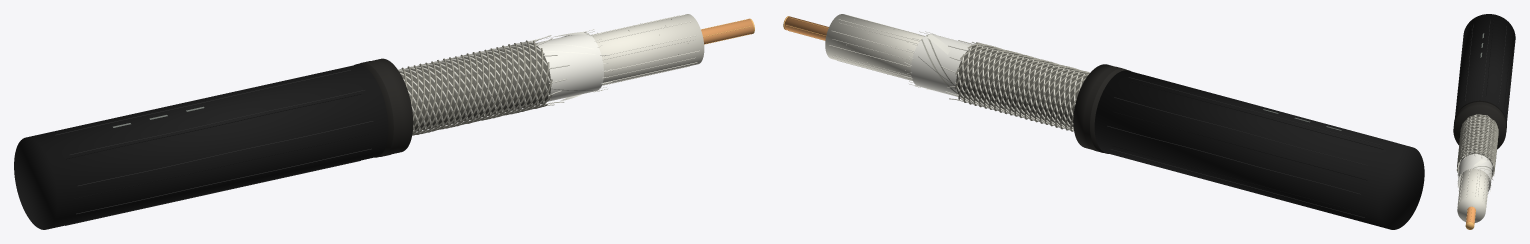
File: rf-lmr100-macro.glb
The picture shows the model from 3 angles, left to right: view 1: azimuth 30°, elevation 25°; view 2: azimuth 150°, elevation 25°; view 3: azimuth 270°, elevation 25°; orthographic projection. The views are drawn at different scales.
Parts seen in each view (by area): view 1: macro jacket body, macro dielectric exposed core, shadow seen through braid windows, continuous foil sleeve under braid, thick jacket cut wall, rounded jacket cut lip, polished solid center conductor, jacket axial surface line 05, jacket axial surface line 04, jacket axial surface line 06; view 2: macro jacket body, macro dielectric exposed core, shadow seen through braid windows, continuous foil sleeve under braid, thick jacket cut wall, rounded jacket cut lip, polished solid center conductor; view 3: macro jacket body, macro dielectric exposed core, thick jacket cut wall, continuous foil sleeve under braid, shadow seen through braid windows, rounded jacket cut lip, macro braid shadow carrier 11 strand 2, macro braid shadow carrier 05 strand 2, macro braid shadow carrier 08 strand 2, macro braid shadow carrier 04 strand 2, macro braid shadow carrier 06 strand 2, macro braid shadow carrier 09 strand 2 (+33 smaller).
Part boxes in pixels (x1=…): macro jacket body: x1=14, y1=64, x2=388, y2=229; macro dielectric exposed core: x1=591, y1=14, x2=704, y2=85; shadow seen through braid windows: x1=399, y1=43, x2=550, y2=131; continuous foil sleeve under braid: x1=536, y1=32, x2=603, y2=101; thick jacket cut wall: x1=354, y1=58, x2=413, y2=157; rounded jacket cut lip: x1=360, y1=61, x2=401, y2=156; polished solid center conductor: x1=701, y1=19, x2=753, y2=43; jacket axial surface line 05: x1=78, y1=121, x2=373, y2=186; jacket axial surface line 04: x1=70, y1=90, x2=364, y2=155; jacket axial surface line 06: x1=76, y1=148, x2=371, y2=214; macro jacket body: x1=1094, y1=70, x2=1424, y2=229; macro dielectric exposed core: x1=825, y1=14, x2=923, y2=80; shadow seen through braid windows: x1=956, y1=45, x2=1087, y2=127; continuous foil sleeve under braid: x1=911, y1=34, x2=971, y2=96; thick jacket cut wall: x1=1073, y1=64, x2=1130, y2=153; rounded jacket cut lip: x1=1083, y1=66, x2=1123, y2=152; polished solid center conductor: x1=784, y1=16, x2=828, y2=40; macro jacket body: x1=1455, y1=14, x2=1515, y2=123; macro dielectric exposed core: x1=1457, y1=168, x2=1489, y2=222; thick jacket cut wall: x1=1453, y1=100, x2=1506, y2=149; continuous foil sleeve under braid: x1=1458, y1=154, x2=1492, y2=191; shadow seen through braid windows: x1=1458, y1=116, x2=1493, y2=174; rounded jacket cut lip: x1=1454, y1=102, x2=1506, y2=131; macro braid shadow carrier 11 strand 2: x1=1457, y1=118, x2=1497, y2=173; macro braid shadow carrier 05 strand 2: x1=1457, y1=128, x2=1498, y2=171; macro braid shadow carrier 08 strand 2: x1=1457, y1=114, x2=1498, y2=162; macro braid shadow carrier 04 strand 2: x1=1458, y1=126, x2=1496, y2=177; macro braid shadow carrier 06 strand 2: x1=1458, y1=120, x2=1498, y2=163; macro braid shadow carrier 09 strand 2: x1=1457, y1=115, x2=1497, y2=163.
Size of the model in its own units: 6.45 by 0.7668 by 0.8965.
